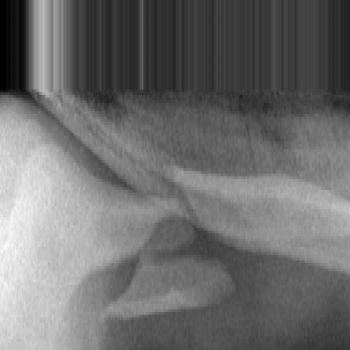Fracture: (155, 155, 201, 247)
